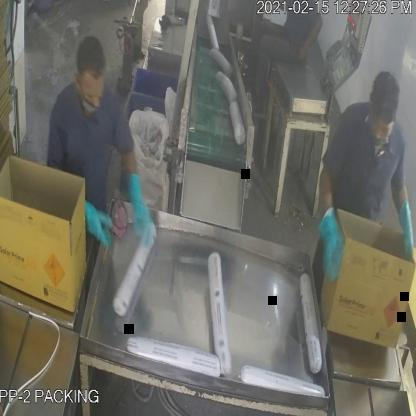glove: (309, 202, 347, 292), (119, 172, 162, 246), (74, 188, 117, 254), (396, 189, 415, 267)
no_glove: (296, 5, 327, 76)
